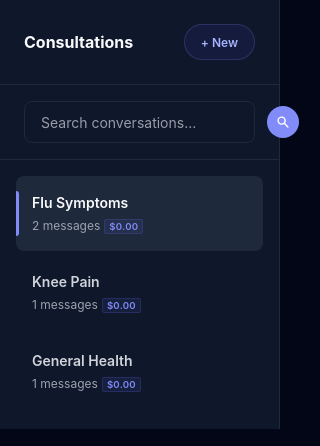
ConversationSidebar › filters conversations by title
The image size is (320, 446).
Type "Flu" into the field with placeholder "Search conversations..." at (150, 122), box [33,110,267,134]
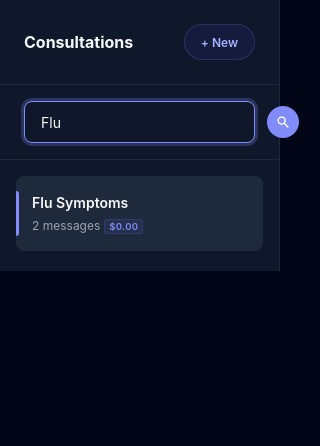
Expected: the text "Flu Symptoms" is shown, [32,194,128,211]
Now the button "Knee Pain" is gone
Now the button "General Health" is gone
